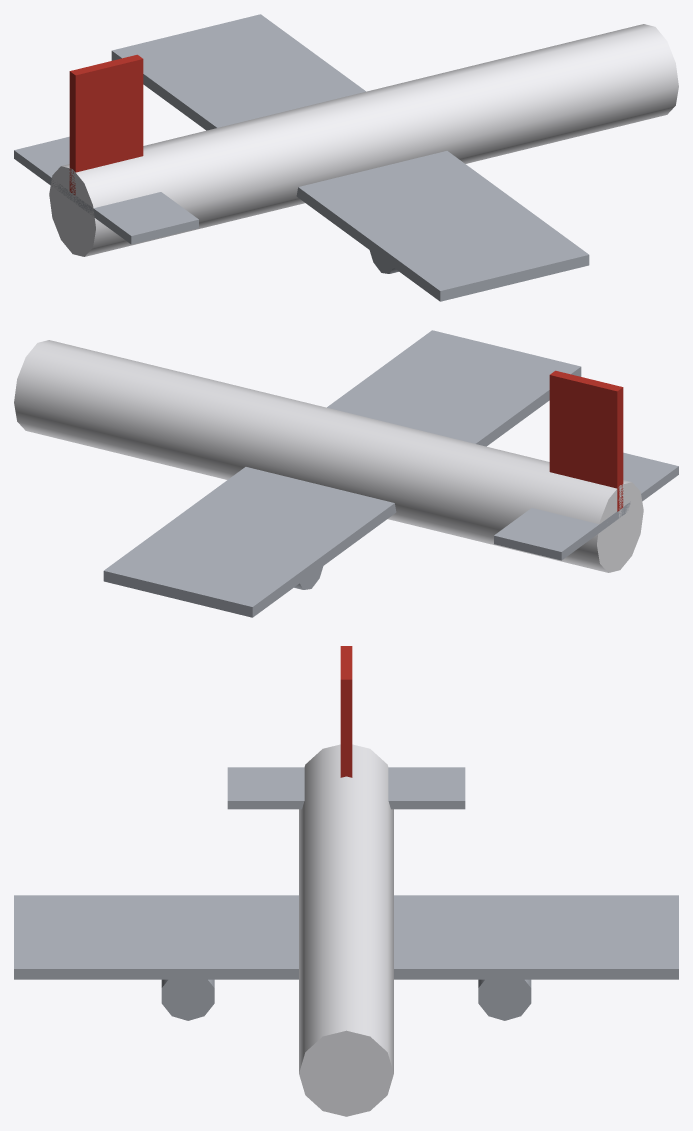
The picture shows the model from 3 angles, top to bottom: view 1: azimuth 30°, elevation 25°; view 2: azimuth 150°, elevation 25°; view 3: azimuth 270°, elevation 25°; orthographic projection.
Parts seen in each view (by area): view 1: Fuselage, Wing, Tail, TailPlane; view 2: Fuselage, Wing, Tail, TailPlane; view 3: Wing, Fuselage, TailPlane, EngineL, EngineR, Tail.
Boxes of the visible parts, x1,y1,x2,y2 form: Fuselage: [49, 24, 678, 256]; Wing: [111, 14, 589, 301]; Tail: [69, 54, 143, 195]; TailPlane: [14, 136, 198, 244]; Fuselage: [14, 340, 643, 572]; Wing: [103, 330, 581, 617]; Tail: [549, 370, 623, 511]; TailPlane: [494, 452, 678, 560]; Wing: [14, 895, 678, 979]; Fuselage: [299, 744, 393, 1116]; TailPlane: [227, 767, 465, 809]; EngineL: [478, 971, 531, 1020]; EngineR: [161, 972, 214, 1020]; Tail: [340, 646, 352, 777].
Bounding box in the file's own units: 0.86 × 0.28 × 0.84.
